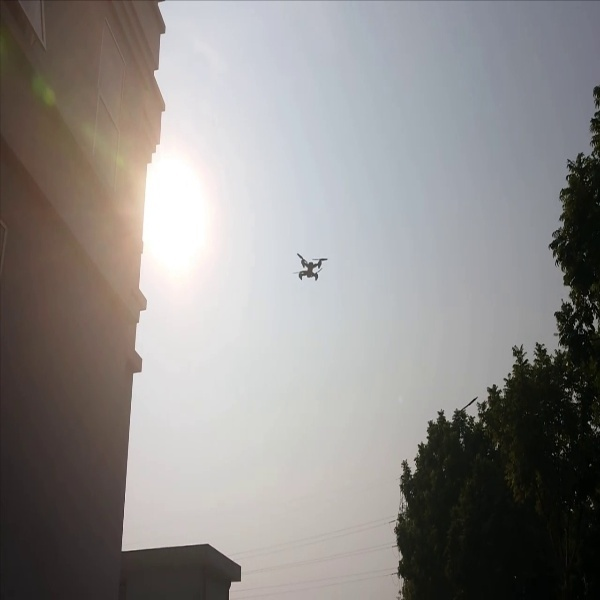drone: (289, 249, 331, 288)
